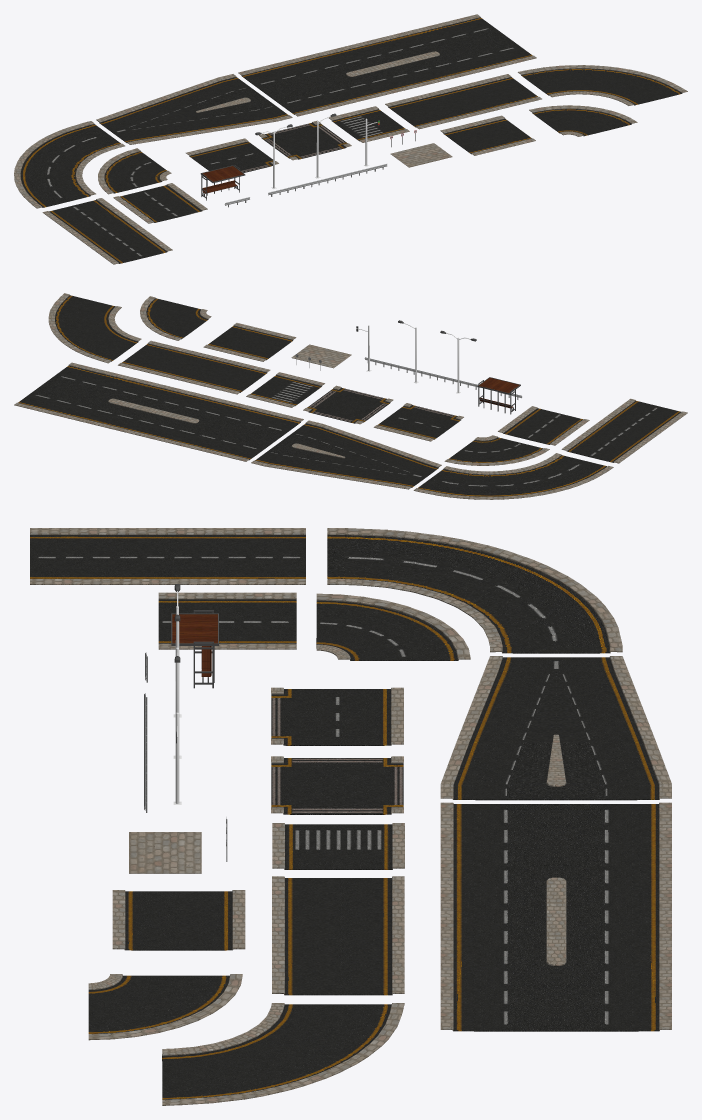
Rendered from modular road pack.glb.
3 renders of one model, top to bottom at view 1: azimuth 30°, elevation 25°; view 2: azimuth 150°, elevation 25°; view 3: azimuth 270°, elevation 25°, orthographic. The views are drawn at different scales.
Parts seen in each view (by area): view 1: 4in 2.007, 4in 2.006, 4in 2.001, 4in 2.009, 4in 2.008, 4in 2.002, 4in 2.010, 4in 2.012, 4in 2.013, 4in 2.011, 4in 2.004, 4in 2.003 (+5 smaller); view 2: 4in 2.007, 4in 2.006, 4in 2.001, 4in 2.008, 4in 2.002, 4in 2.009, 4in 2.012, 4in 2.013, 4in 2.010, 4in 2.011, 4in 2.004, 4in 2.003 (+5 smaller); view 3: 4in 2.007, 4in 2.006, 4in 2.001, 4in 2.002, 4in 2.008, 4in 2.009, 4in 2.011, 4in 2.012, 4in 2.010, 4in 2.003, 4in 2.004, 4in 2.013 (+4 smaller).
Boxes of the visible parts, x1=… form: 4in 2.007: x1=238, y1=14, x2=536, y2=116; 4in 2.006: x1=96, y1=74, x2=292, y2=144; 4in 2.001: x1=14, y1=121, x2=124, y2=208; 4in 2.009: x1=518, y1=65, x2=687, y2=105; 4in 2.008: x1=385, y1=74, x2=541, y2=129; 4in 2.002: x1=42, y1=198, x2=172, y2=264; 4in 2.010: x1=529, y1=105, x2=637, y2=136; 4in 2.012: x1=440, y1=115, x2=535, y2=155; 4in 2.013: x1=113, y1=183, x2=207, y2=223; 4in 2.011: x1=98, y1=148, x2=171, y2=194; 4in 2.004: x1=258, y1=120, x2=351, y2=160; 4in 2.003: x1=186, y1=138, x2=278, y2=172; 4in 2.007: x1=14, y1=362, x2=303, y2=461; 4in 2.006: x1=251, y1=420, x2=441, y2=489; 4in 2.001: x1=413, y1=453, x2=613, y2=499; 4in 2.008: x1=118, y1=340, x2=270, y2=394; 4in 2.002: x1=561, y1=398, x2=687, y2=463; 4in 2.009: x1=48, y1=293, x2=141, y2=363; 4in 2.012: x1=203, y1=323, x2=296, y2=361; 4in 2.013: x1=498, y1=406, x2=589, y2=445; 4in 2.010: x1=140, y1=296, x2=211, y2=340; 4in 2.011: x1=444, y1=435, x2=549, y2=465; 4in 2.004: x1=303, y1=385, x2=393, y2=424; 4in 2.003: x1=373, y1=403, x2=463, y2=441; 4in 2.007: x1=440, y1=802, x2=671, y2=1031; 4in 2.006: x1=440, y1=656, x2=671, y2=800; 4in 2.001: x1=327, y1=528, x2=622, y2=653; 4in 2.002: x1=30, y1=528, x2=305, y2=584; 4in 2.008: x1=272, y1=876, x2=404, y2=995; 4in 2.009: x1=162, y1=1003, x2=404, y2=1105; 4in 2.011: x1=316, y1=593, x2=470, y2=660; 4in 2.012: x1=112, y1=890, x2=245, y2=950; 4in 2.010: x1=88, y1=974, x2=242, y2=1040; 4in 2.003: x1=271, y1=687, x2=403, y2=745; 4in 2.004: x1=271, y1=756, x2=403, y2=814; 4in 2.013: x1=158, y1=592, x2=296, y2=649.
Size of the model in its own units: 27.79 by 2.65 by 13.08.
Materials: 9 (8 with a texture image).
